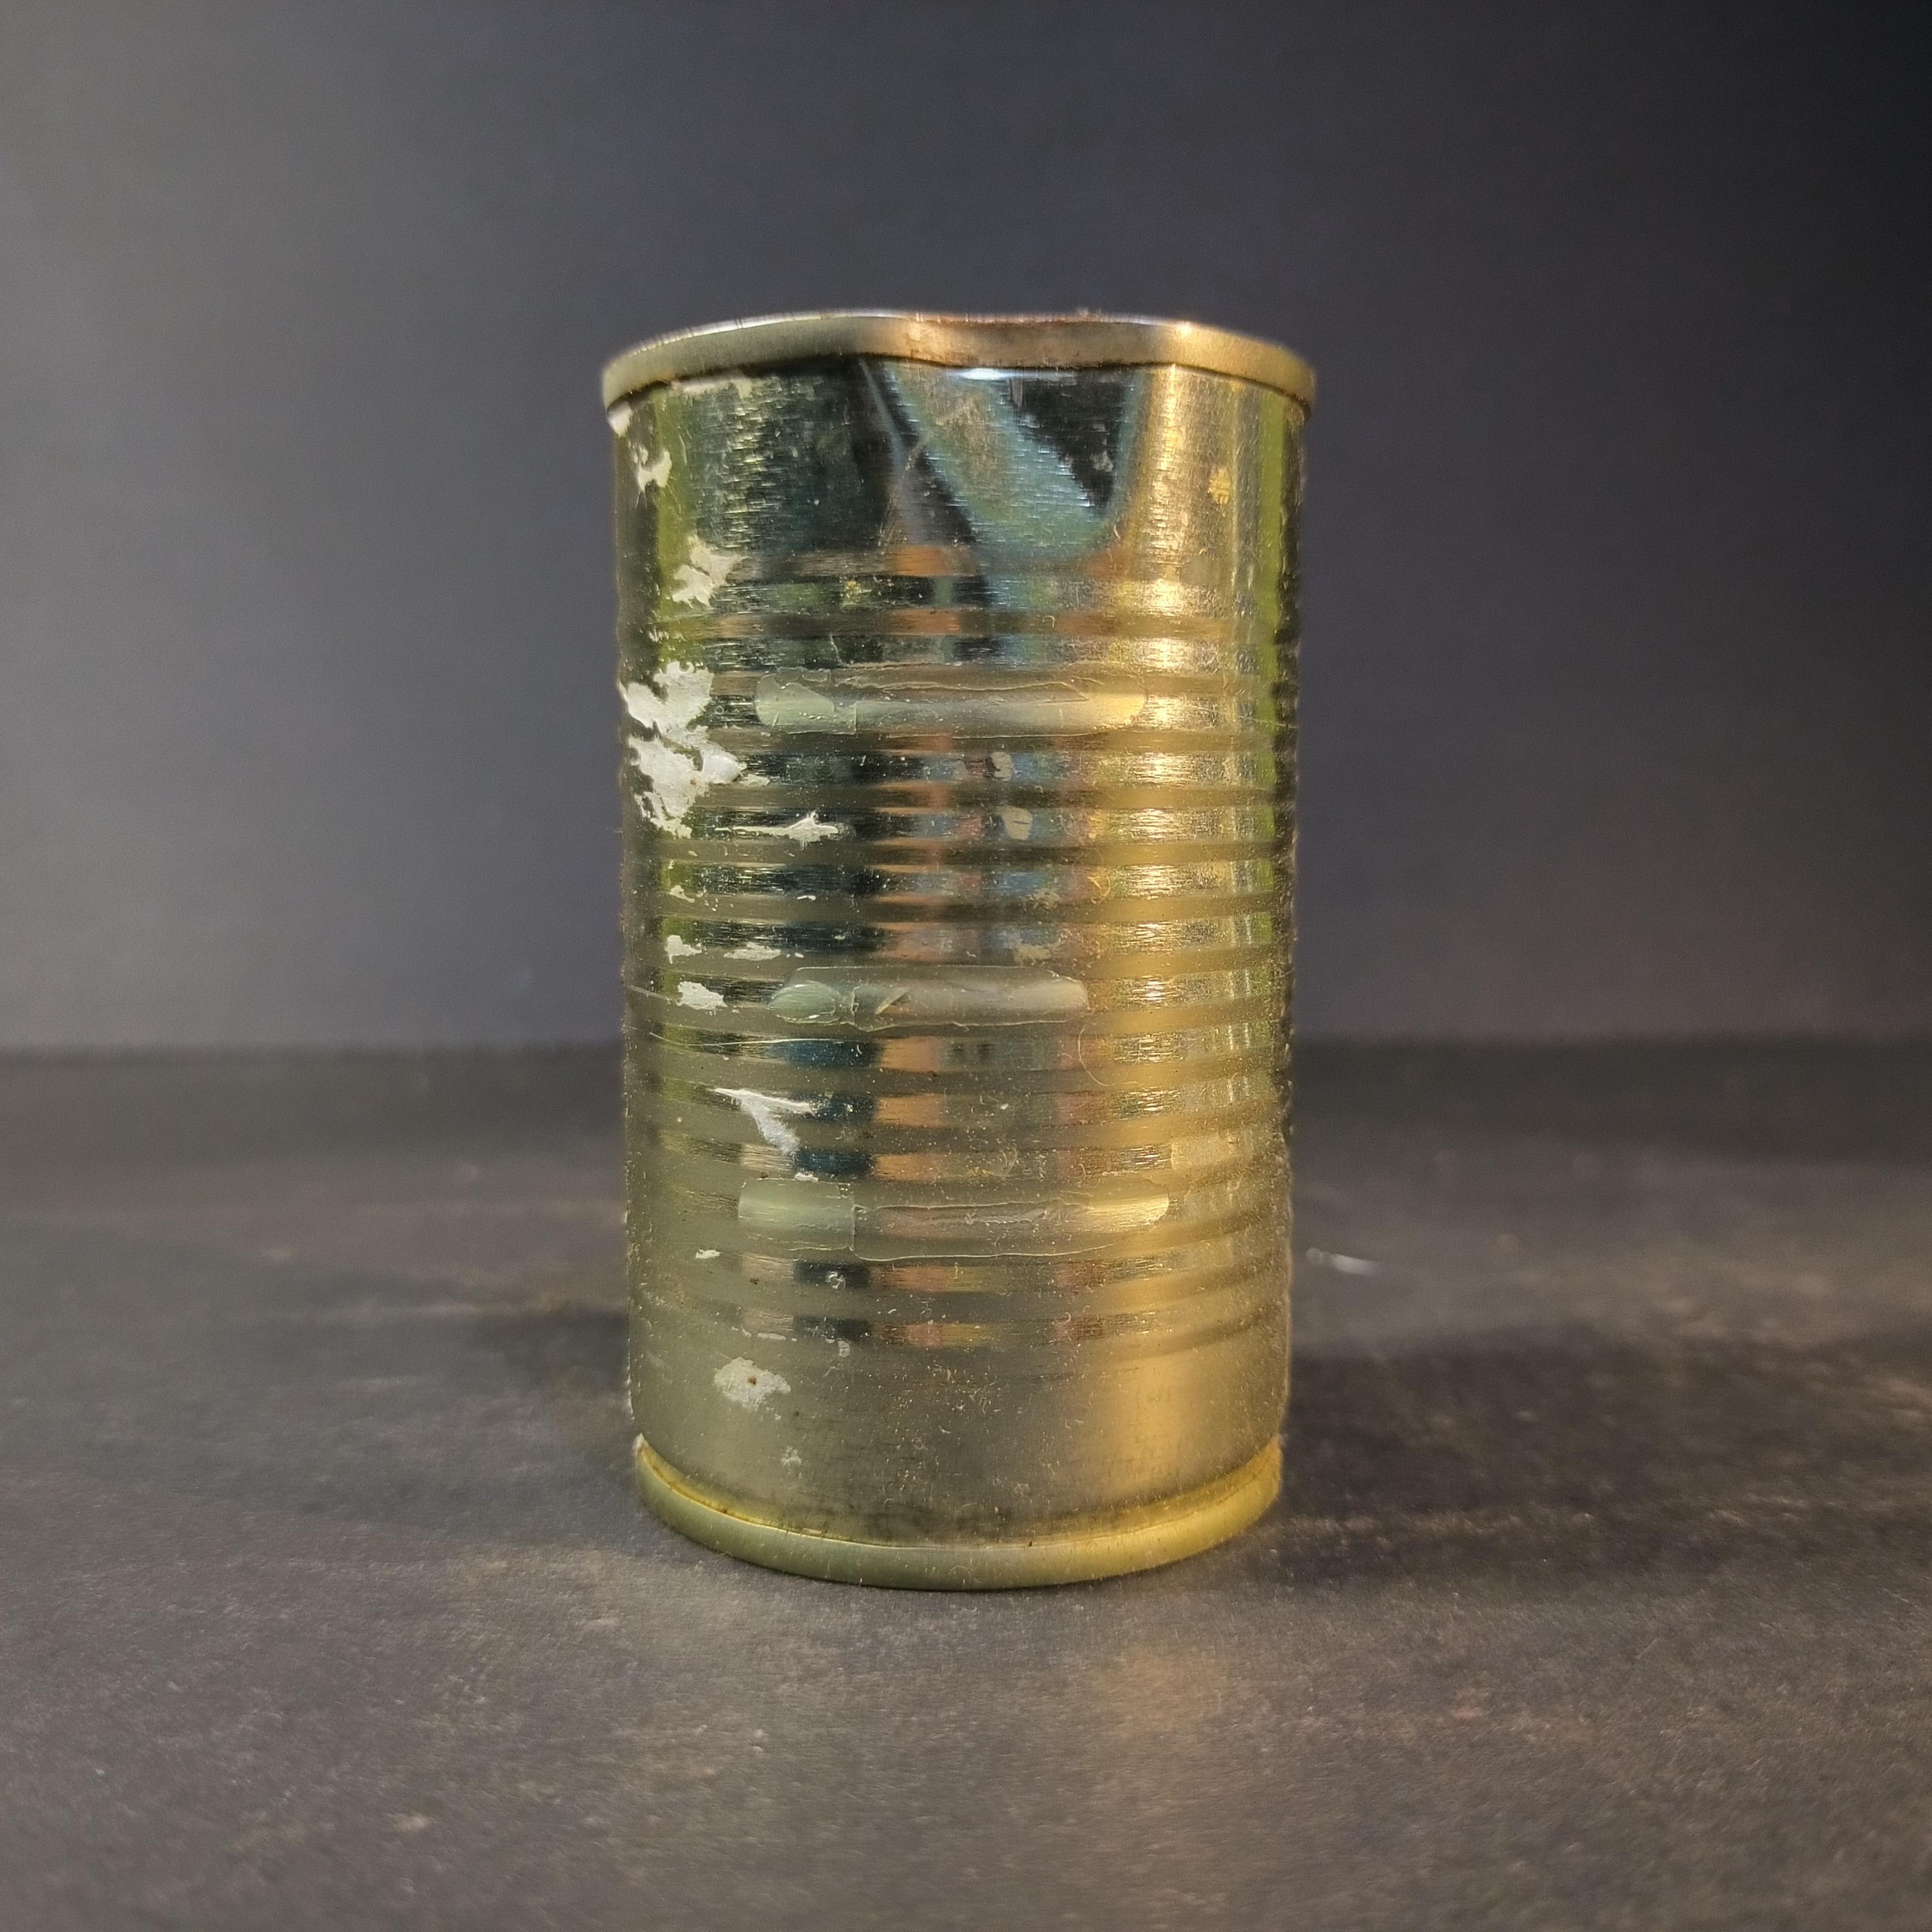Dented: (582, 267, 1361, 1619)
